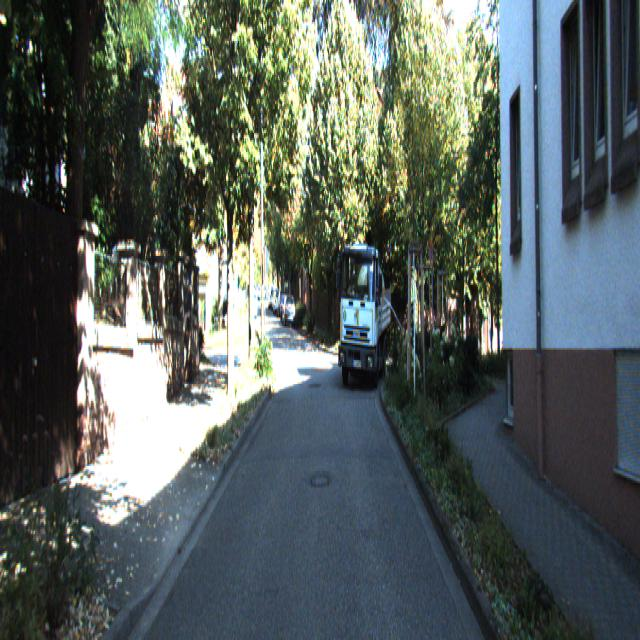Car: (337, 239, 393, 396), (282, 294, 296, 329)
